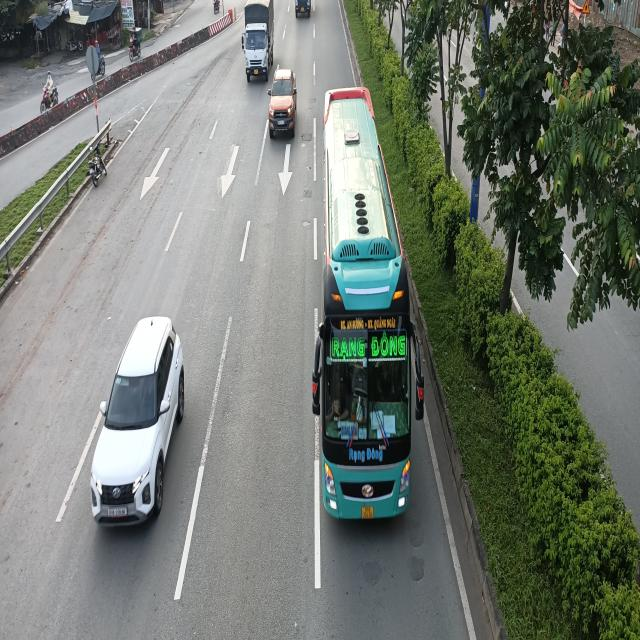car: (89, 314, 185, 527), (269, 71, 299, 141)
coach: (308, 81, 418, 520)
truck: (243, 0, 276, 81)
